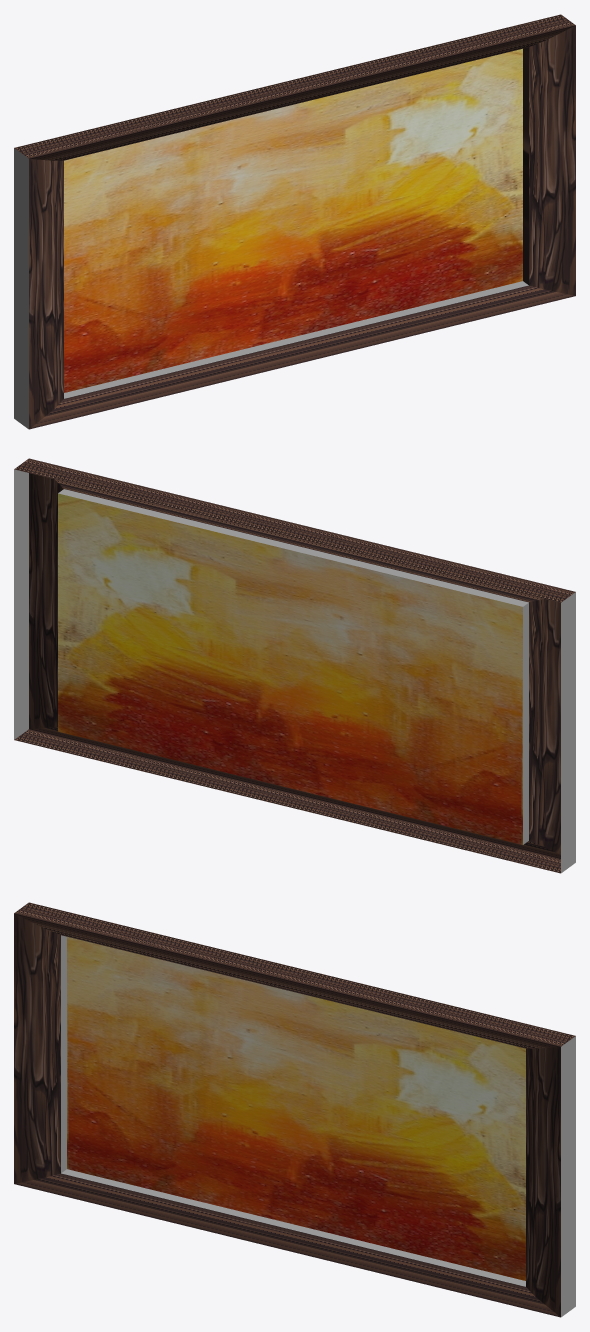
The model's file is painting2.fbx.
3 views of the same model, one above another, from view 1: azimuth 30°, elevation 25°; view 2: azimuth 150°, elevation 25°; view 3: azimuth 330°, elevation 25° (orthographic).
Visible parts, largest first — view 1: pCube4; view 2: pCube4; view 3: pCube4.
Boxes of the visible parts, left/top/right/bottom form: pCube4: left=14, top=14, right=575, bottom=429; pCube4: left=14, top=458, right=575, bottom=873; pCube4: left=14, top=902, right=575, bottom=1317.
Size of the model in its own units: 106 by 50 by 5.
